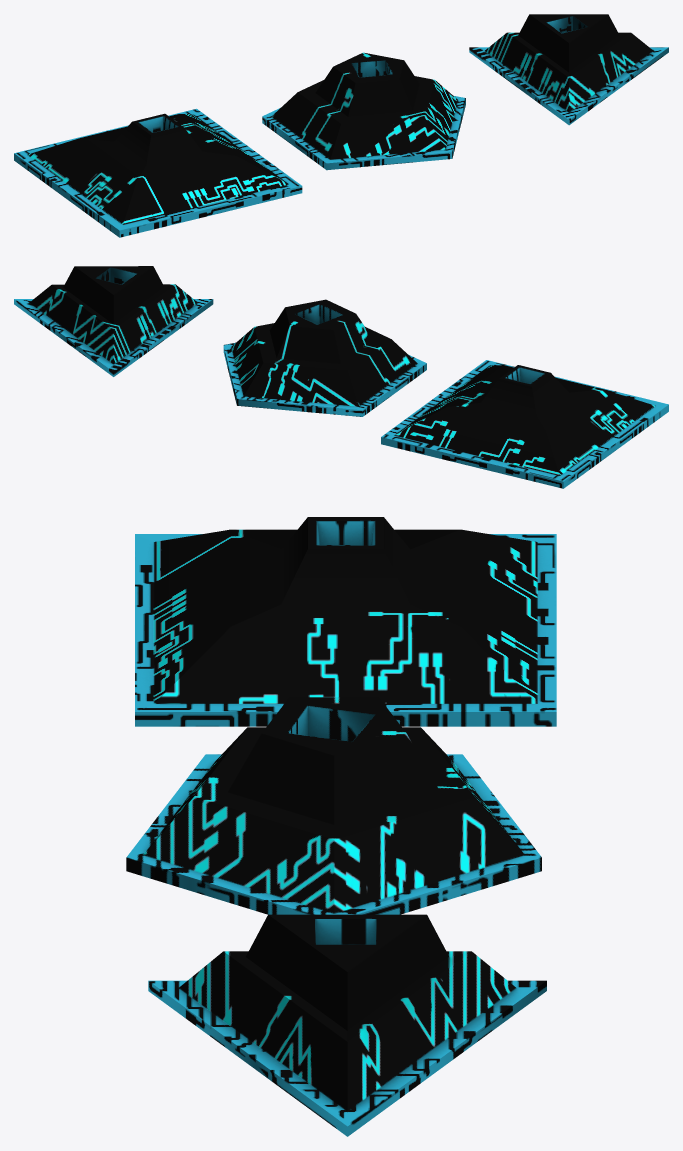
Rendered from AxisPoints.FBX.
3 views of the same model, one above another, from view 1: azimuth 30°, elevation 25°; view 2: azimuth 150°, elevation 25°; view 3: azimuth 270°, elevation 25° (orthographic). The views are drawn at different scales.
Parts seen in each view (by area): view 1: AxisPoint003, AxisPoint002, AxisPoint001; view 2: AxisPoint003, AxisPoint002, AxisPoint001; view 3: AxisPoint003, AxisPoint002, AxisPoint001.
Boxes of the visible parts, <box> form: AxisPoint003: <box>14,108,302,237</box>; AxisPoint002: <box>262,52,465,170</box>; AxisPoint001: <box>469,14,668,125</box>; AxisPoint003: <box>381,360,668,488</box>; AxisPoint002: <box>223,299,426,416</box>; AxisPoint001: <box>14,266,213,376</box>; AxisPoint003: <box>135,517,556,726</box>; AxisPoint002: <box>126,697,541,914</box>; AxisPoint001: <box>148,914,546,1136</box>.
Bounding box in the file's own units: 169 × 16.12 × 52.47.
2 materials, 2 textured.
